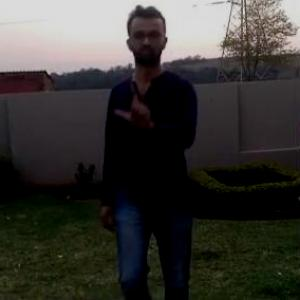land_hand: (115, 76, 154, 130)
